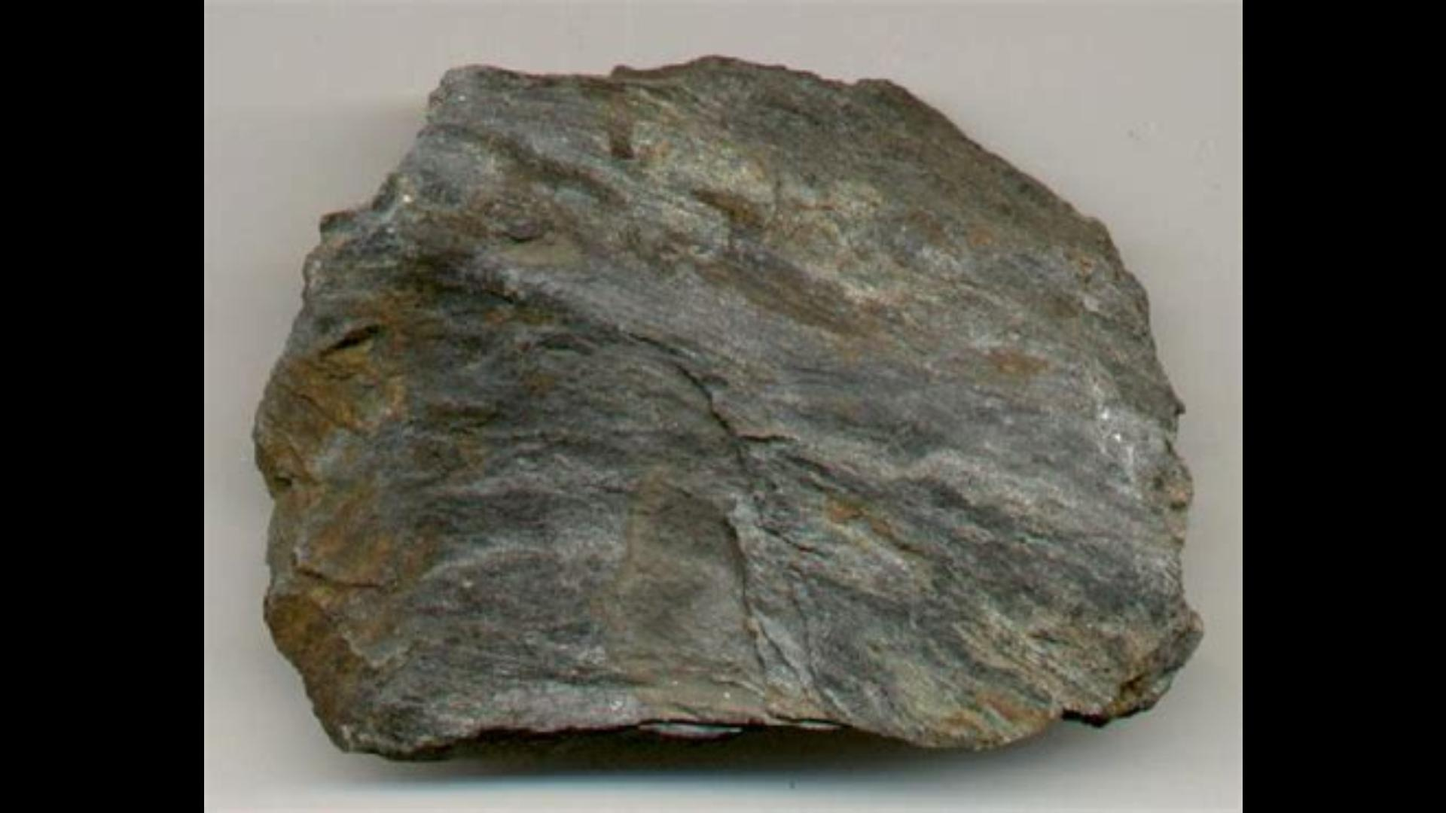rock: (254, 59, 1199, 747)
